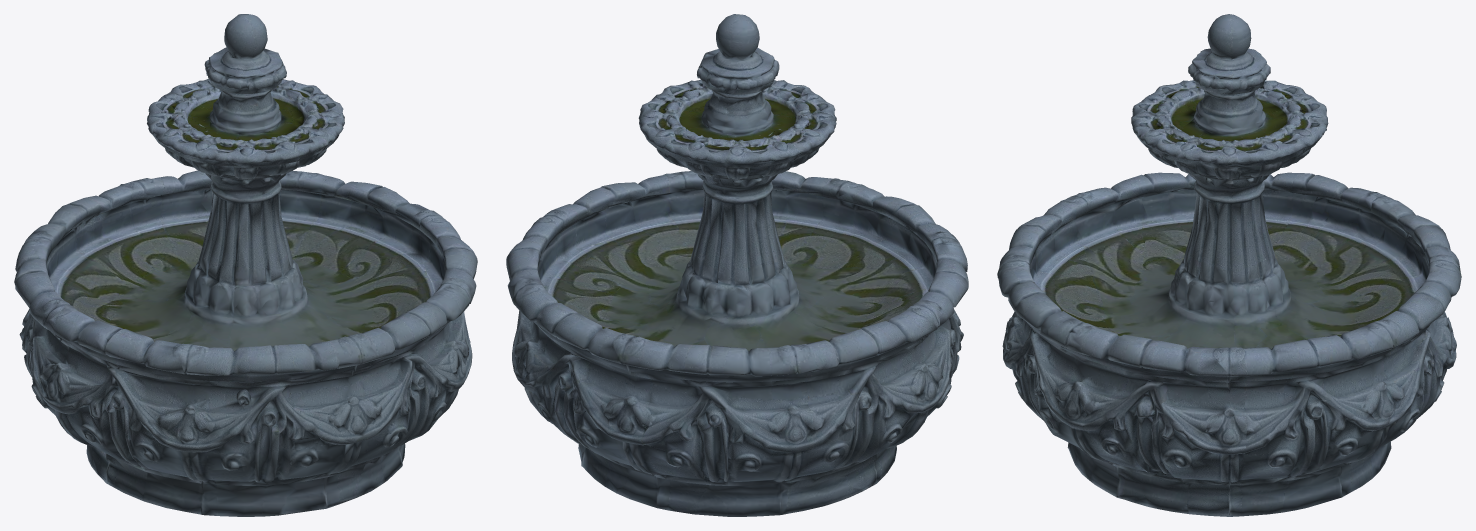
Rendered from lean-fountain.glb.
3 renders of one model, left to right at view 1: azimuth 30°, elevation 25°; view 2: azimuth 150°, elevation 25°; view 3: azimuth 270°, elevation 25°, orthographic.
Size of the model in its own units: 1.85 by 1.9 by 1.84.
1 material, 1 textured.
